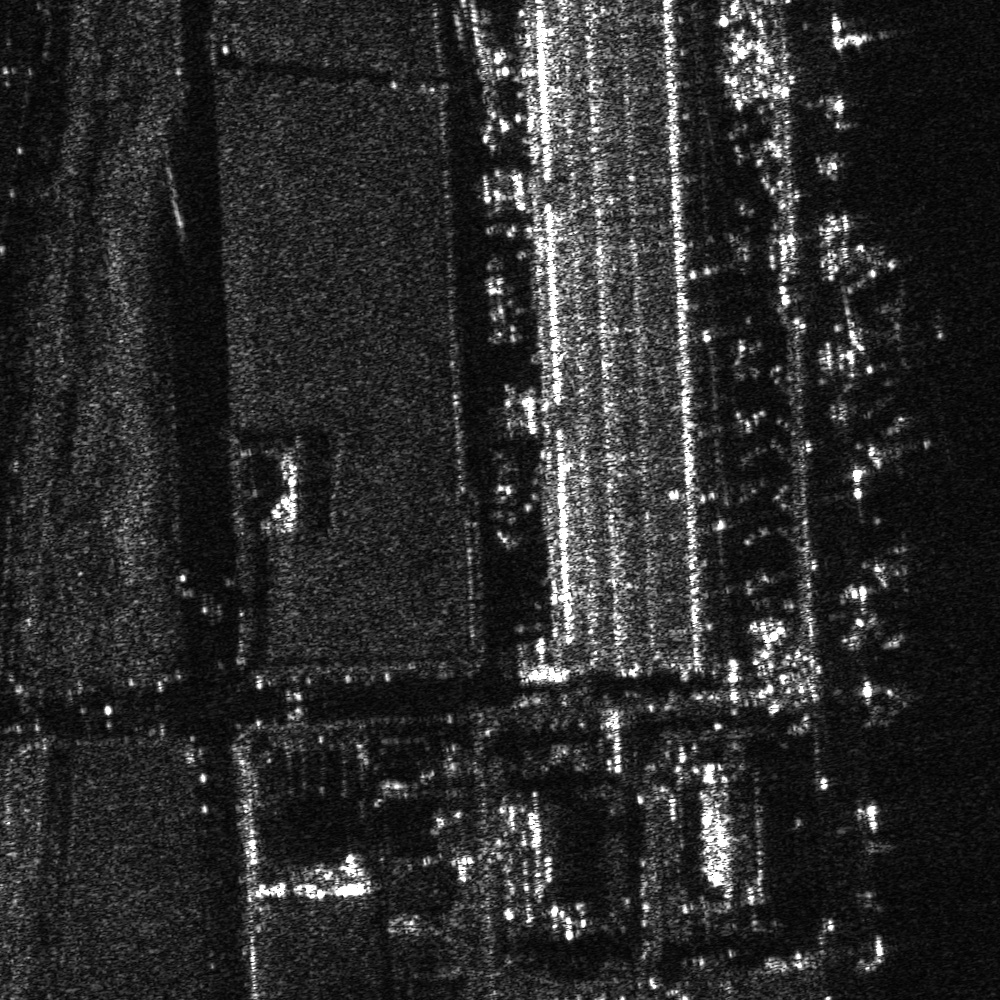A220: (845, 286, 952, 373)
other: (847, 405, 939, 473), (857, 528, 939, 593)
